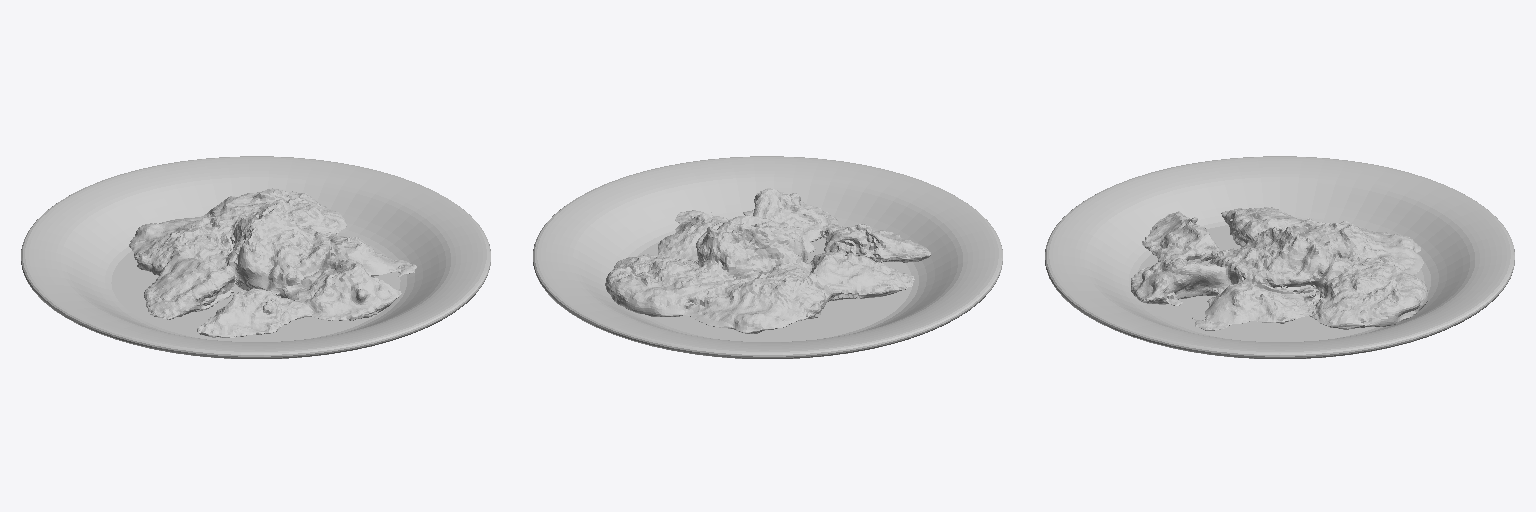
The model's file is Ravioli A1.obj.
The picture shows the model from 3 angles: view 1: azimuth 30°, elevation 25°; view 2: azimuth 150°, elevation 25°; view 3: azimuth 270°, elevation 25°; orthographic projection.
Parts seen in each view (by area): view 1: Dish1, CL_Skin_default27_01; view 2: Dish1, CL_Skin_default27_01; view 3: Dish1, CL_Skin_default27_01.
Part boxes in pixels (x1,y1,x2,y2): Dish1: (21, 156, 490, 358); CL_Skin_default27_01: (129, 188, 416, 337); Dish1: (533, 156, 1002, 358); CL_Skin_default27_01: (605, 188, 930, 333); Dish1: (1045, 156, 1514, 358); CL_Skin_default27_01: (1131, 207, 1427, 330).
Size of the model in its own units: 41.02 by 6.78 by 41.02.